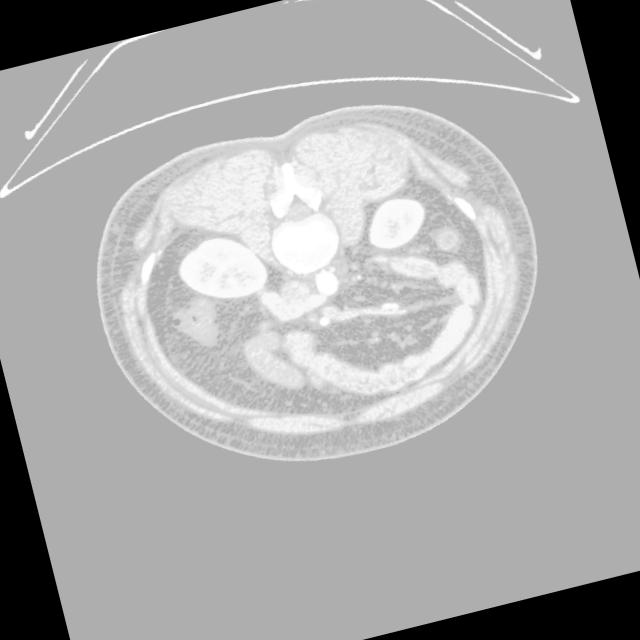NORMAL: (59, 71, 566, 519)
